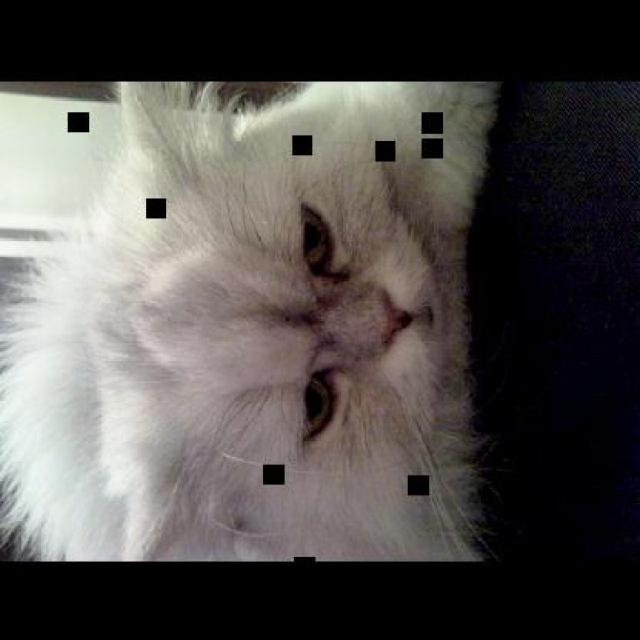unauthorized: (0, 79, 505, 562)
